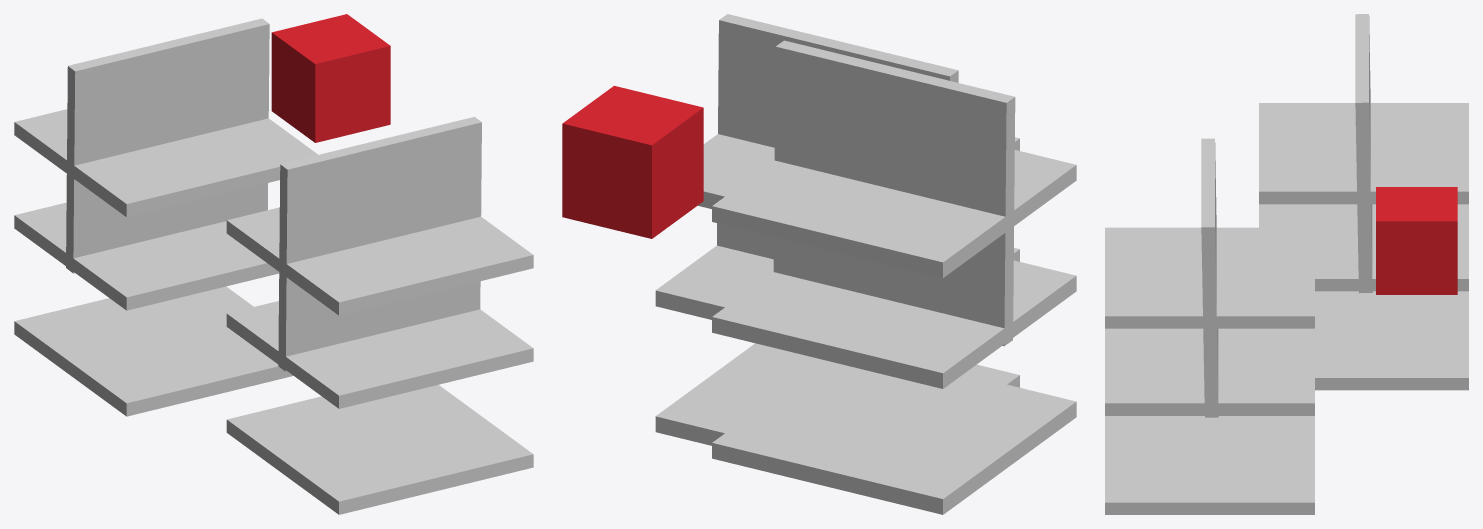
3 renders of one model, left to right at view 1: azimuth 30°, elevation 25°; view 2: azimuth 150°, elevation 25°; view 3: azimuth 270°, elevation 25°, orthographic. The views are drawn at different scales.
Parts seen in each view (by area): view 1: city, Cube; view 2: city, Cube; view 3: city, Cube.
Part boxes in pixels (x1,y1,x2,y2): city: [14, 18, 533, 514]; Cube: [271, 14, 390, 142]; city: [655, 14, 1076, 514]; Cube: [562, 85, 703, 238]; city: [1105, 14, 1468, 514]; Cube: [1376, 187, 1457, 294].
Size of the model in its own units: 3.36 by 3.71 by 3.47.
